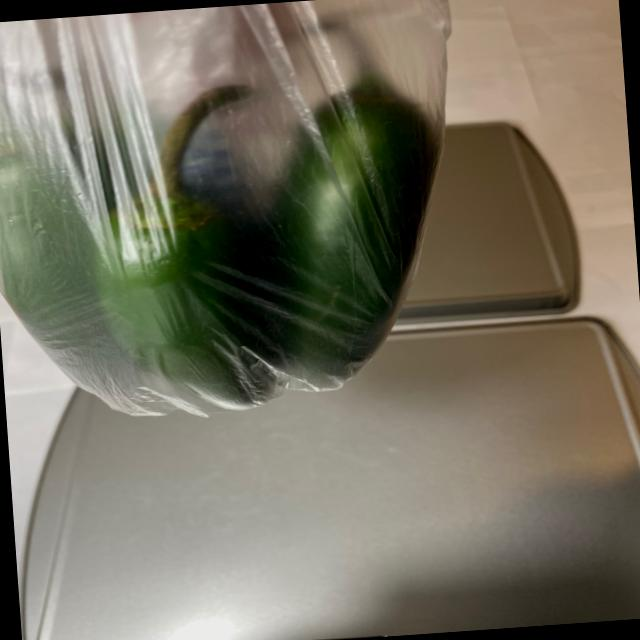chilli: (0, 5, 455, 429)
